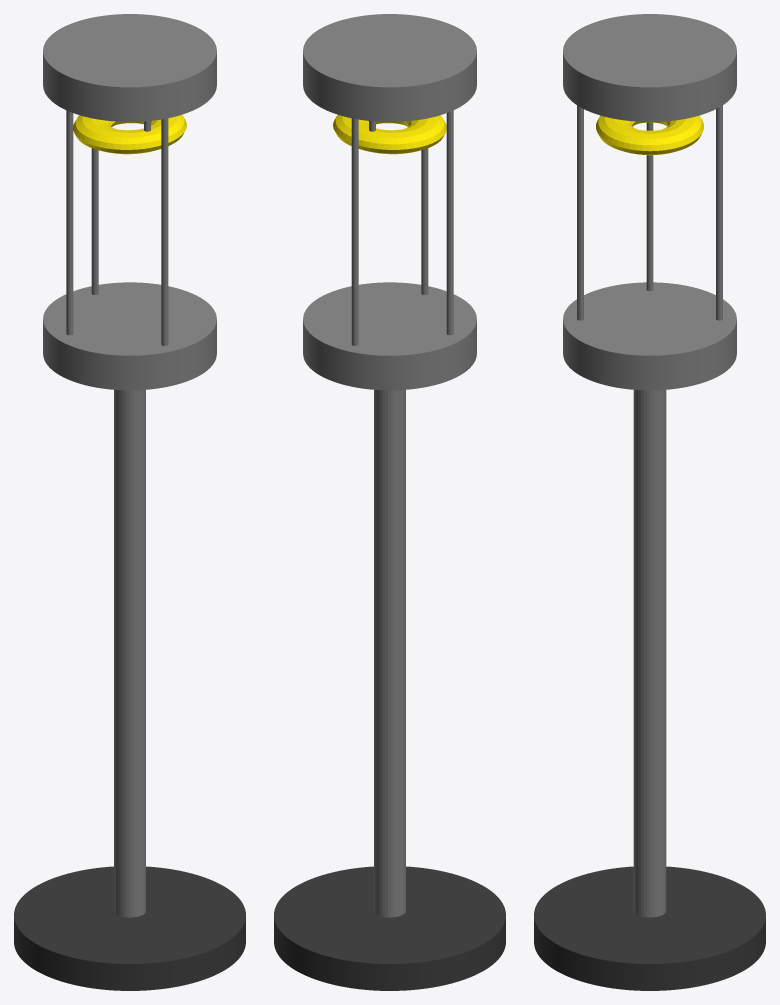
The model's file is vision_box.dae.
3 views of the same model, side by side, from view 1: azimuth 30°, elevation 25°; view 2: azimuth 150°, elevation 25°; view 3: azimuth 270°, elevation 25° (orthographic).
Visible parts, largest first — view 1: Cilindro, Cilindro.002, Cilindro.001; view 2: Cilindro, Cilindro.002, Cilindro.001; view 3: Cilindro, Cilindro.002, Cilindro.001.
Boxes of the visible parts, x1,y1,x2,y2 form: Cilindro: (43,14,216,390); Cilindro.002: (14,866,245,990); Cilindro.001: (114,390,145,917); Cilindro: (303,14,476,390); Cilindro.002: (274,866,505,990); Cilindro.001: (374,390,405,917); Cilindro: (563,14,736,390); Cilindro.002: (534,866,765,990); Cilindro.001: (633,390,666,917).
Bounding box in the file's own units: 0.3339 × 0.3339 × 1.42.
